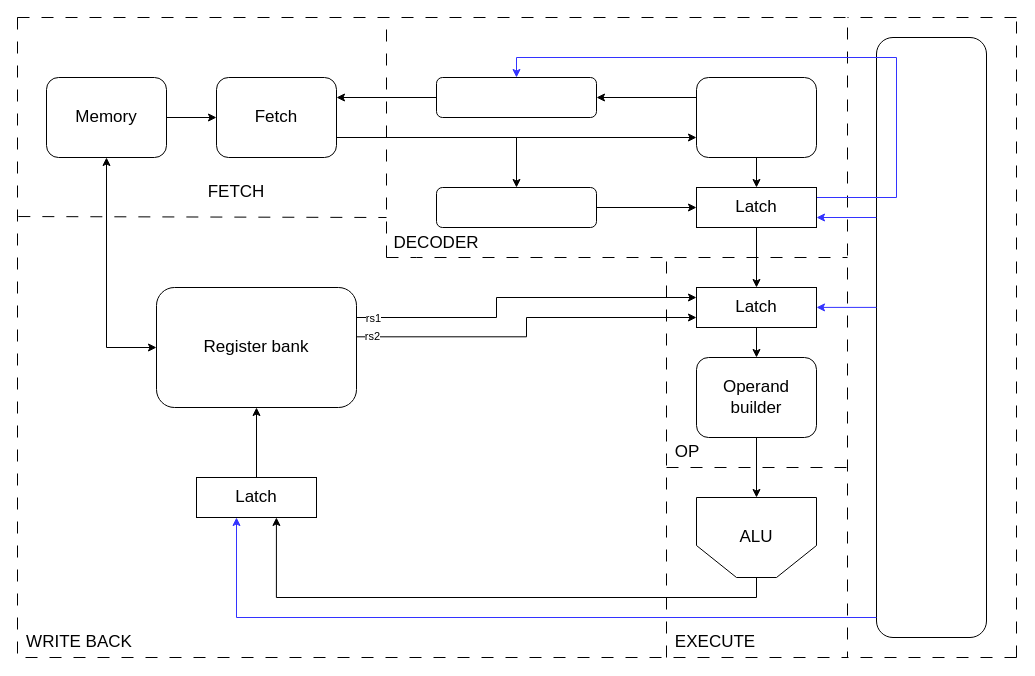
This 1035x676 diagram has some shape labels left out. The shapes that lost their labels are listed below. From the top down, each one's centre as x and y in pixels, then its label:
At (x=516, y=97): "Address builder Jump resolver".
At (x=756, y=117): "Decode".
At (x=516, y=207): "Immediate builder".
At (x=931, y=337): "PIPELINE CONTROLLER".
